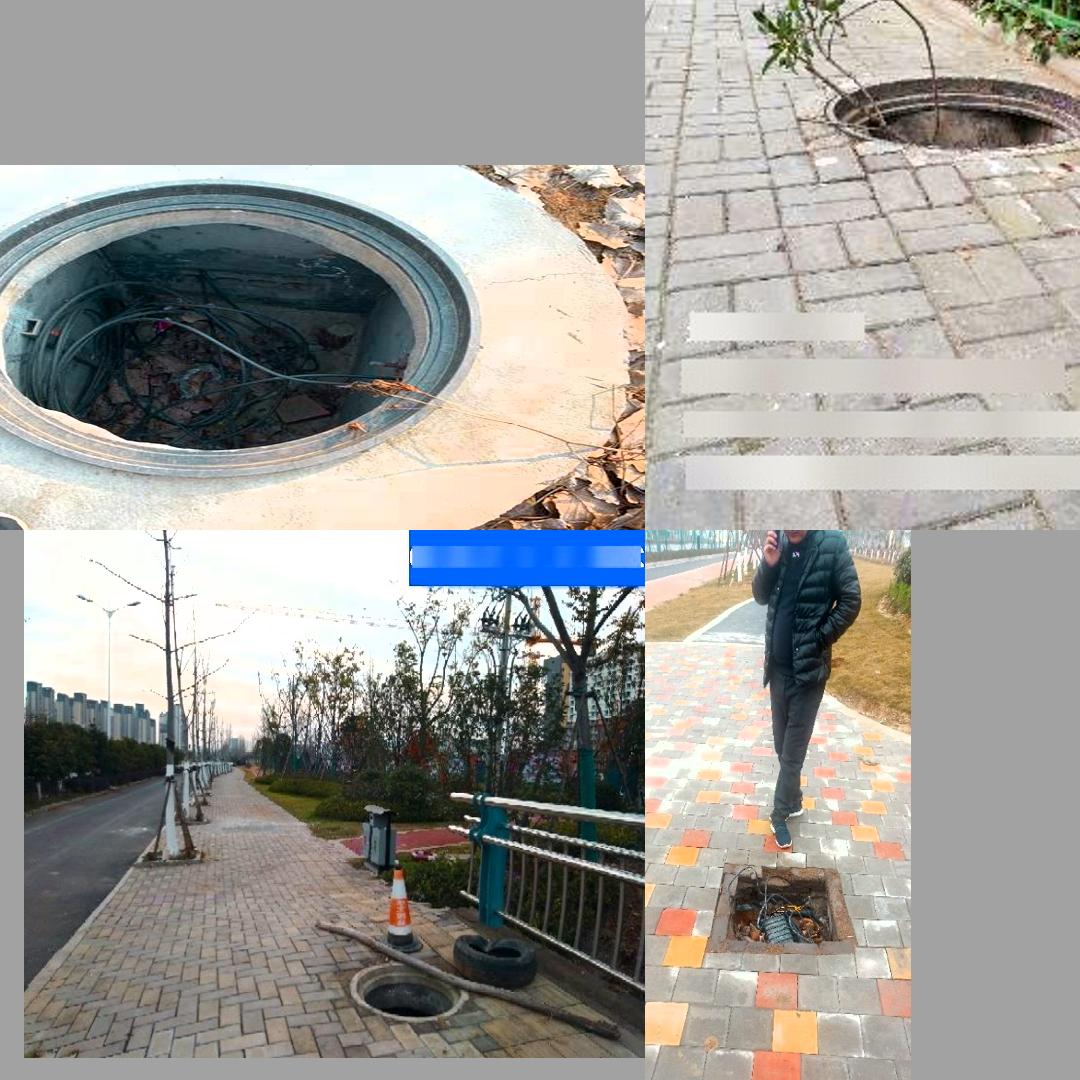lose: (0, 169, 591, 522), (828, 79, 1080, 153), (721, 874, 840, 943), (348, 963, 469, 1023)
